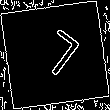L_SW: (27, 25, 83, 85)
